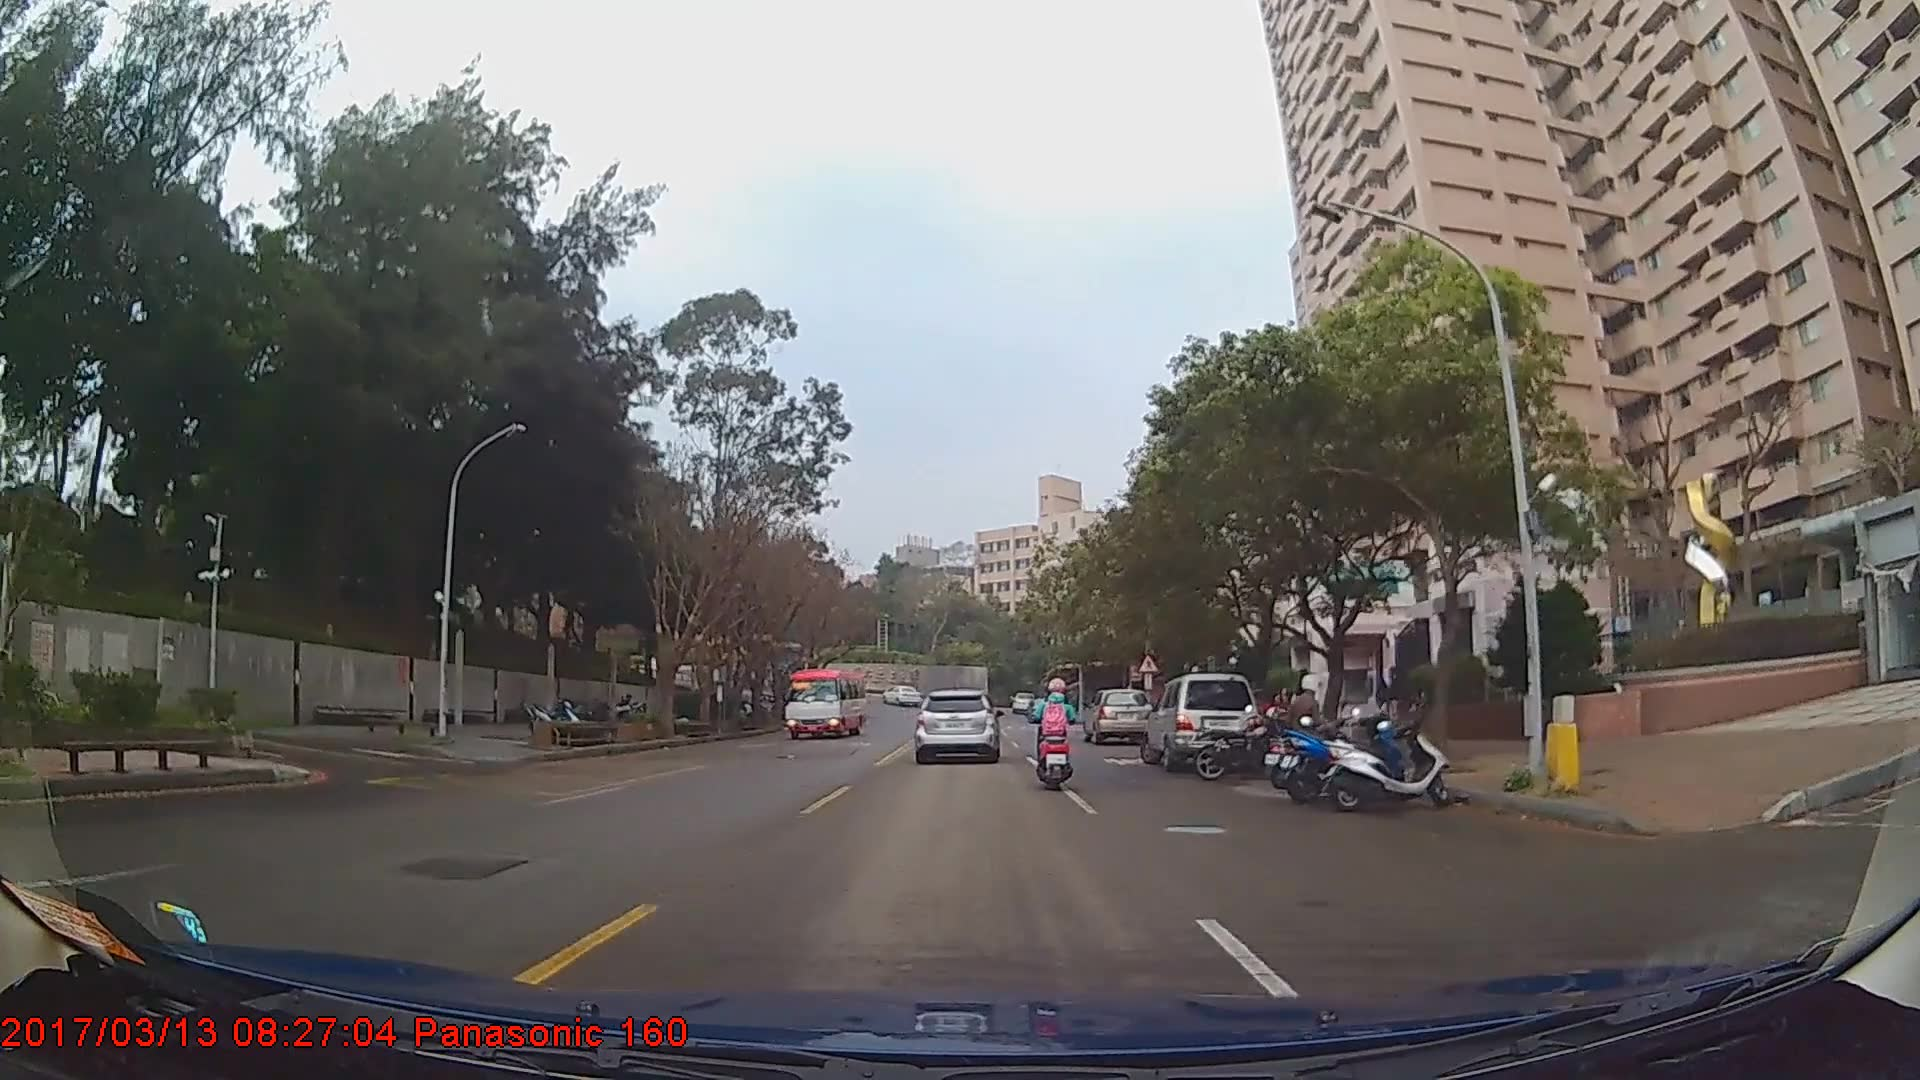rider: (1275, 669, 1337, 781), (1033, 671, 1085, 794)
vehicle: (1139, 672, 1259, 773), (912, 687, 998, 763), (782, 665, 866, 736), (1084, 688, 1152, 744), (878, 683, 924, 708)
